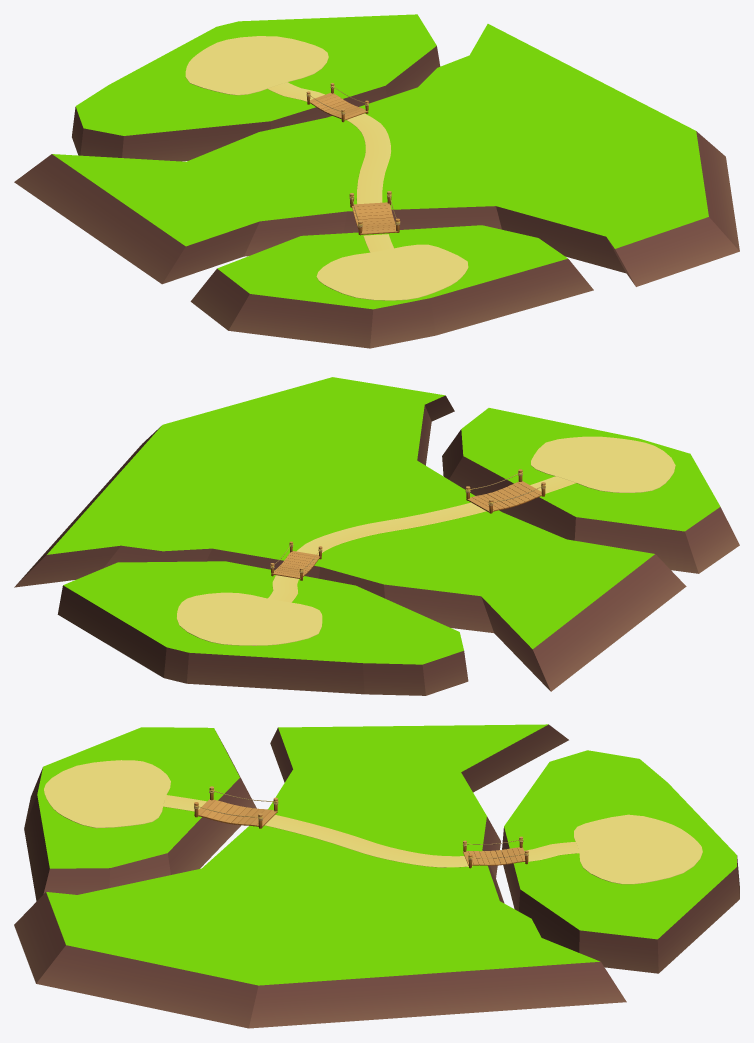
File: Map1.fbx
3 views of the same model, one above another, from view 1: azimuth 30°, elevation 25°; view 2: azimuth 150°, elevation 25°; view 3: azimuth 270°, elevation 25° (orthographic). The views are drawn at different scales.
Visible parts, largest first — view 1: Map1, Bridge_Oversized, Bridge_Oversized.001; view 2: Map1, Bridge_Oversized, Bridge_Oversized.001; view 3: Map1, Bridge_Oversized, Bridge_Oversized.001.
Boxes of the visible parts, <box> form: Map1: <box>14,14,739,348</box>; Bridge_Oversized: <box>349,191,400,235</box>; Bridge_Oversized.001: <box>306,83,368,122</box>; Map1: <box>14,377,739,695</box>; Bridge_Oversized: <box>465,469,545,513</box>; Bridge_Oversized.001: <box>270,541,322,580</box>; Map1: <box>14,724,739,1028</box>; Bridge_Oversized: <box>194,786,278,828</box>; Bridge_Oversized.001: <box>463,836,528,868</box>.
Size of the model in its own units: 3295 by 257 by 3505.
